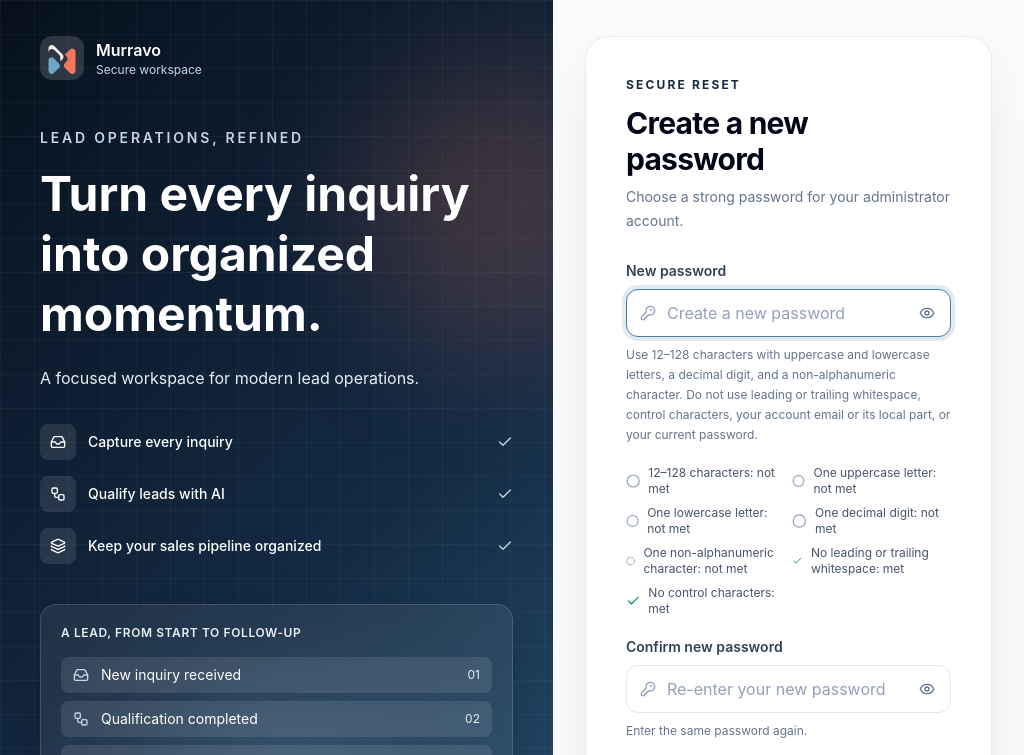
Test: reset password token lifecycle › maps invalid failures to a fixed safe outcome
Type "New-password-42!" into the password field labelled "New password" at x=788, y=313, box x1=626 y1=289 x2=951 y2=337
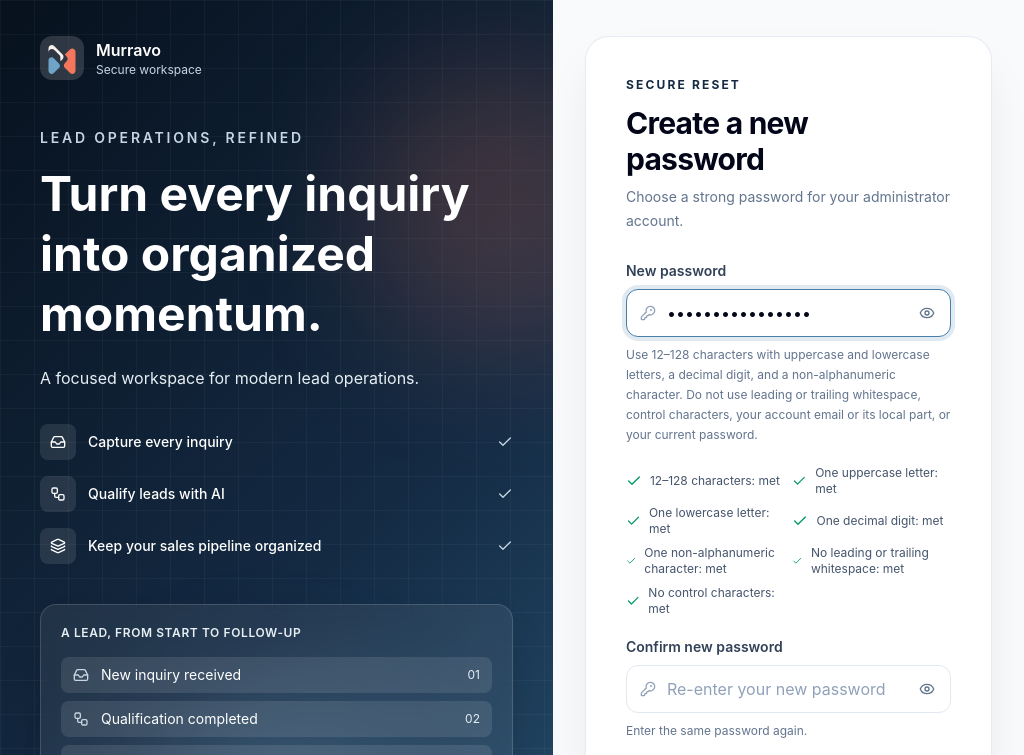
Type "New-password-42!" into the password field labelled "Confirm new password" at x=788, y=689, box x1=626 y1=665 x2=951 y2=713
(page scrolled)
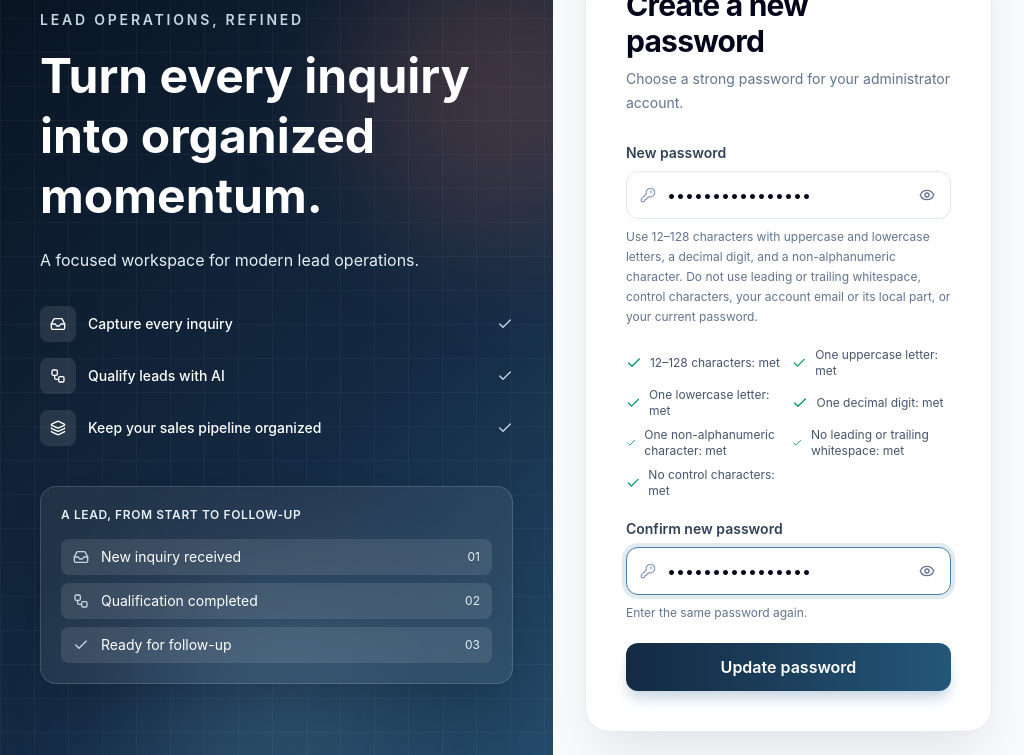
Click the button "Update password" at x=788, y=667, box x1=626 y1=643 x2=951 y2=691
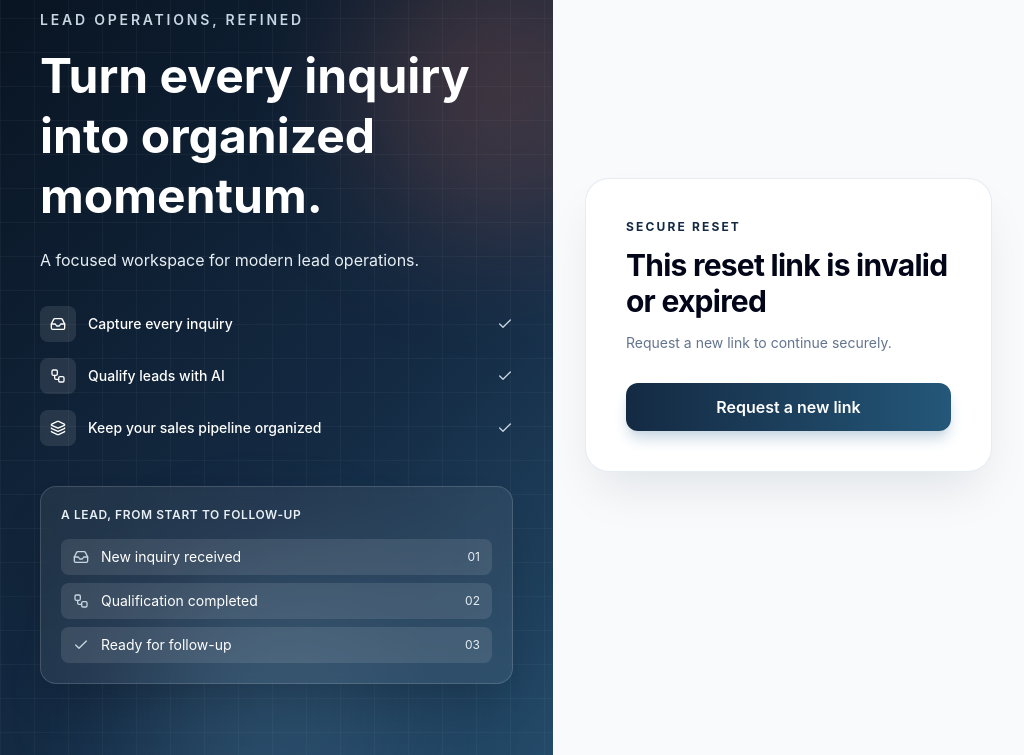
Expected: the heading "This reset link is invalid or expired" is shown, x1=626 y1=247 x2=951 y2=319
